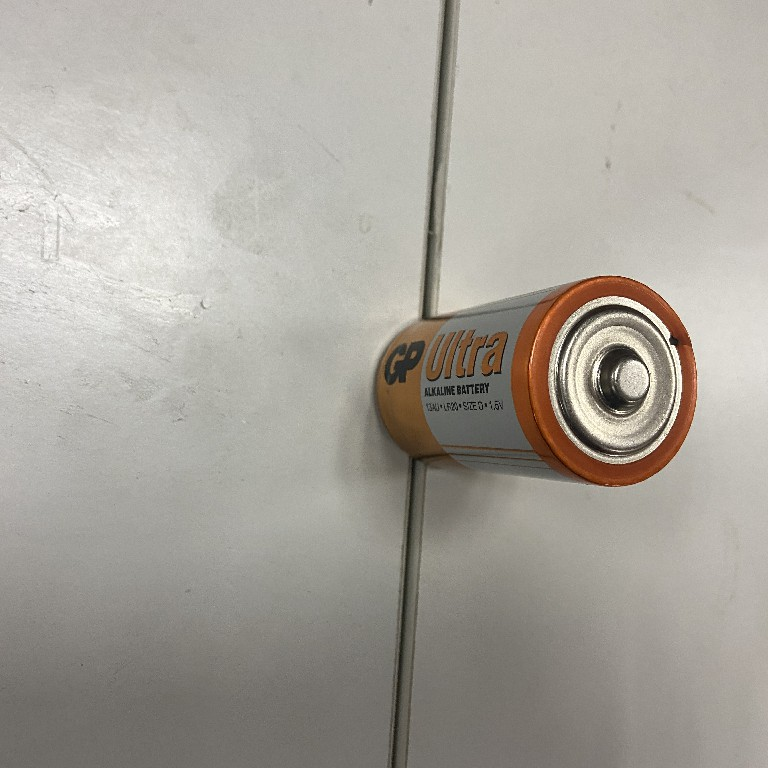charge: (368, 273, 701, 491)
